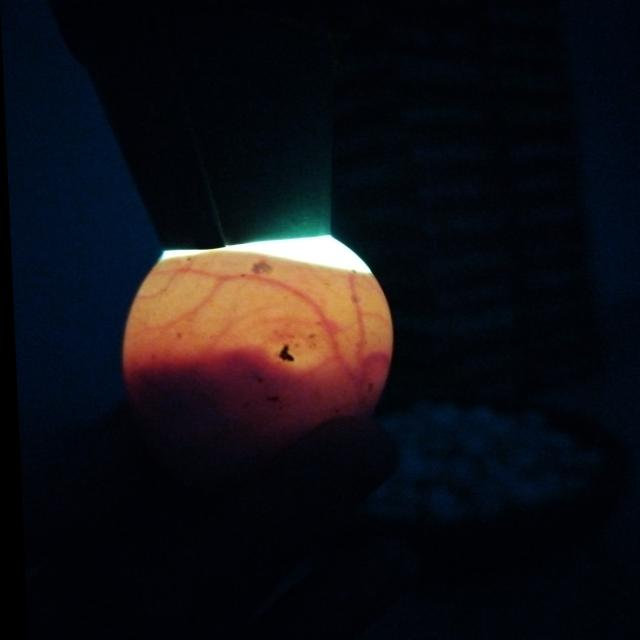Embriao: (112, 355, 362, 461)
